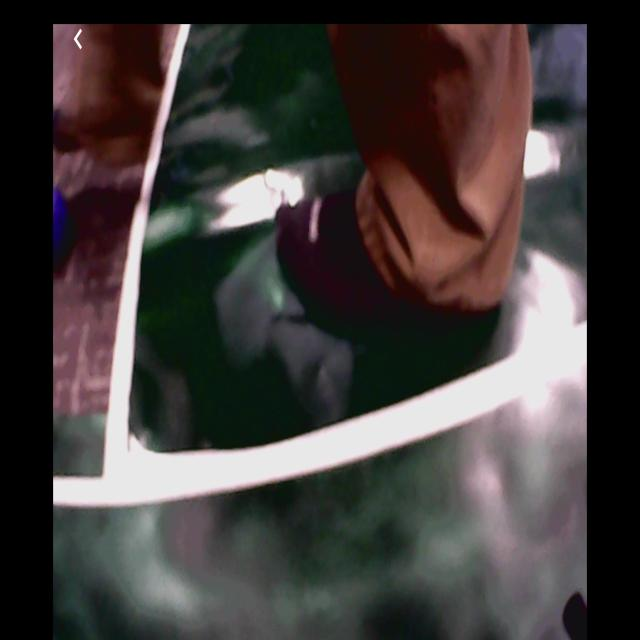ball: (55, 191, 70, 266)
